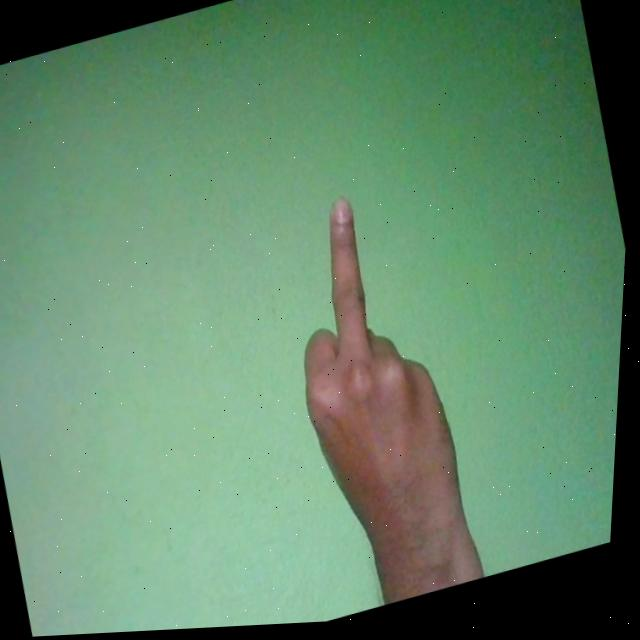Middle Finger: (258, 180, 497, 616)
